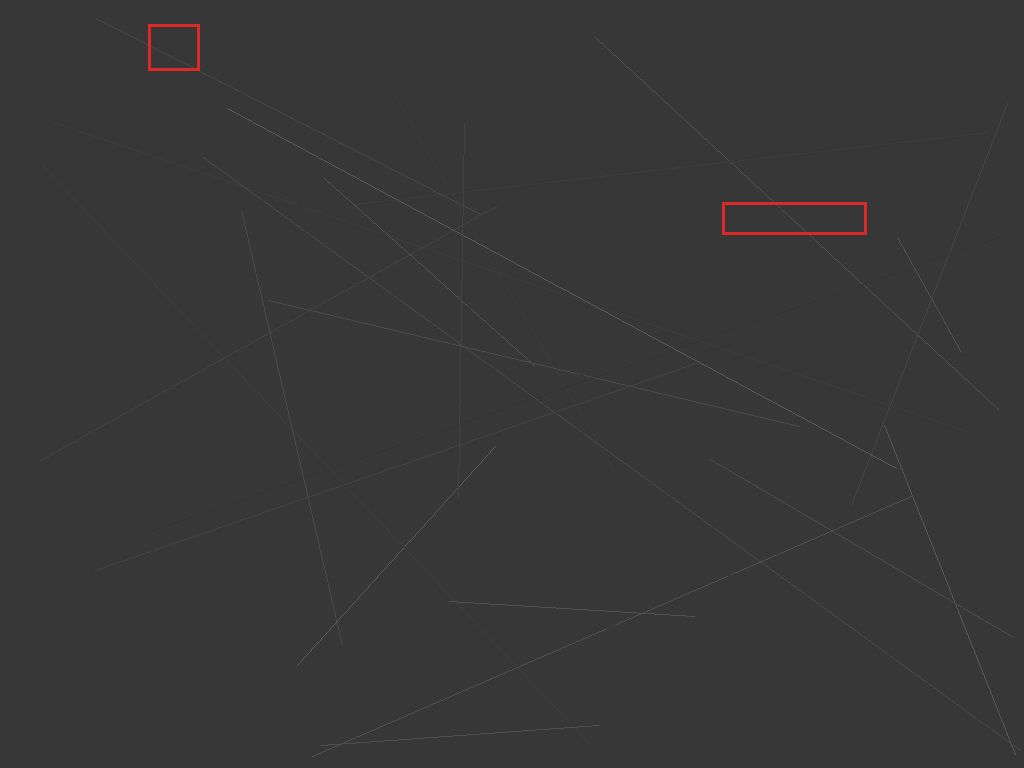D10: (722, 202, 866, 234)
D40: (148, 24, 199, 70)
